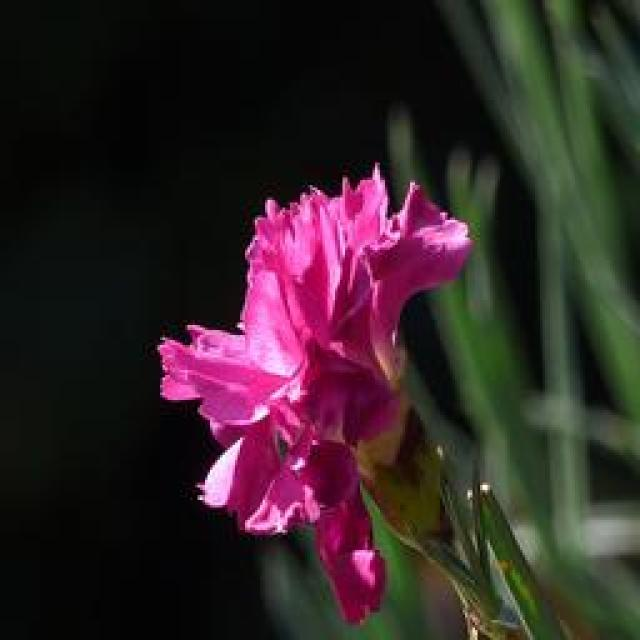carnation: (154, 175, 474, 579)
